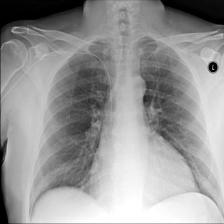normal: (26, 36, 221, 218)
